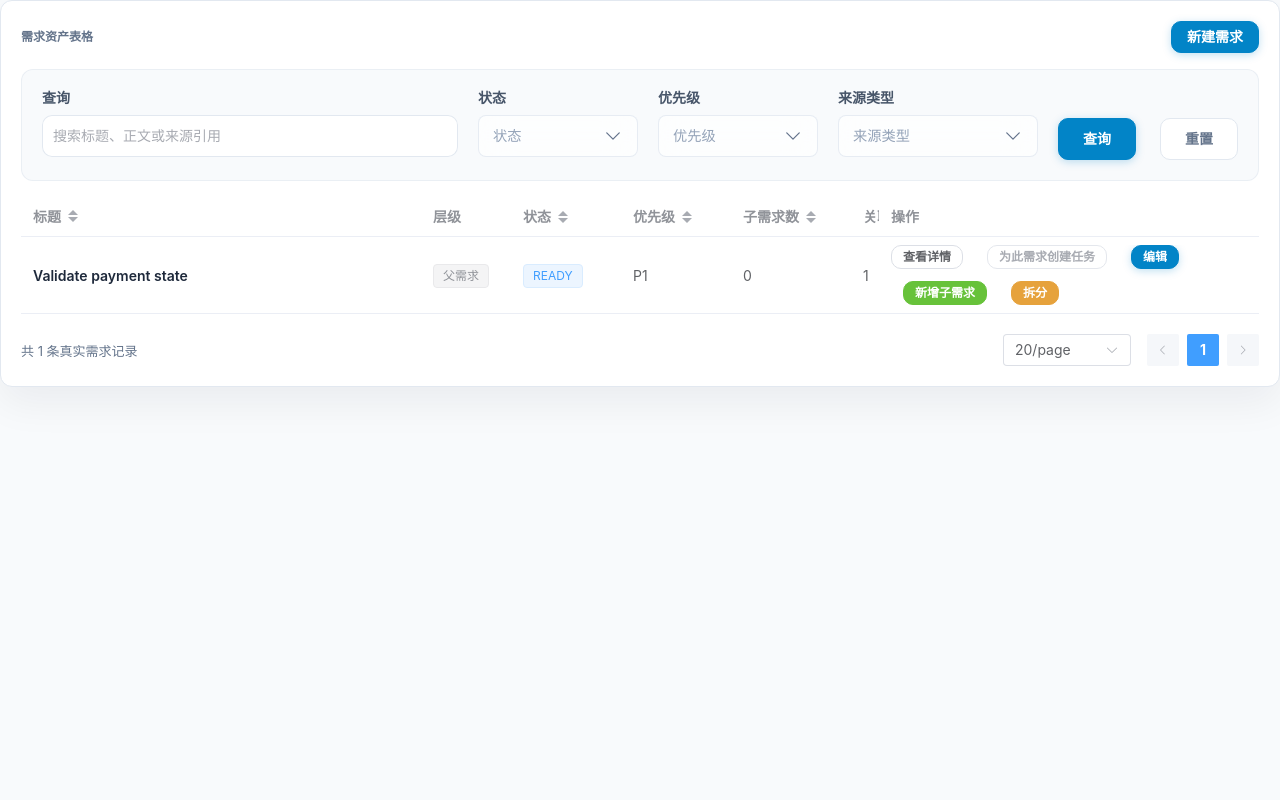
Scenario: RequirementsWorkbench split preview › rebinds an active split preview job from the server instead of creating a duplicate
Click the button "拆分" at (1035, 293), box [1011,281,1059,305]
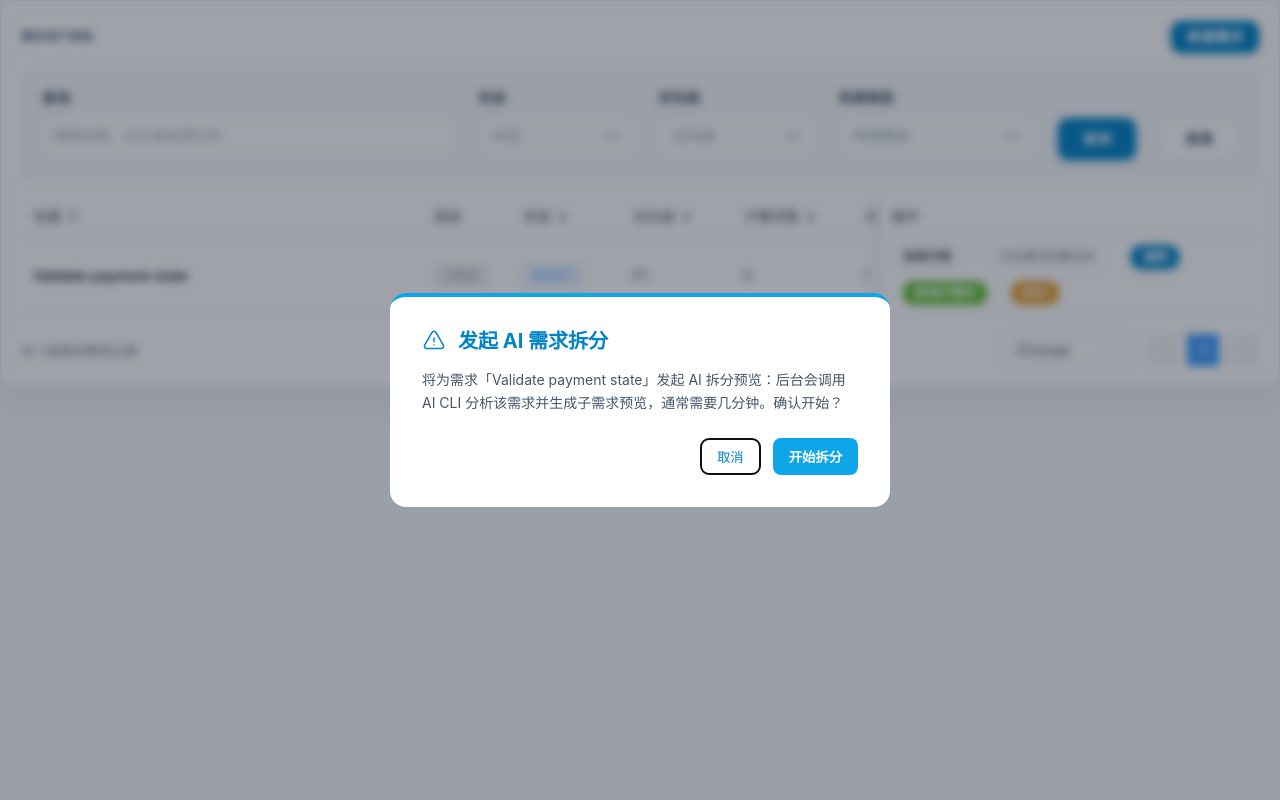
Expected: the button "开始拆分" is shown
Click the button "开始拆分" at (815, 456), box [773,438,858,475]
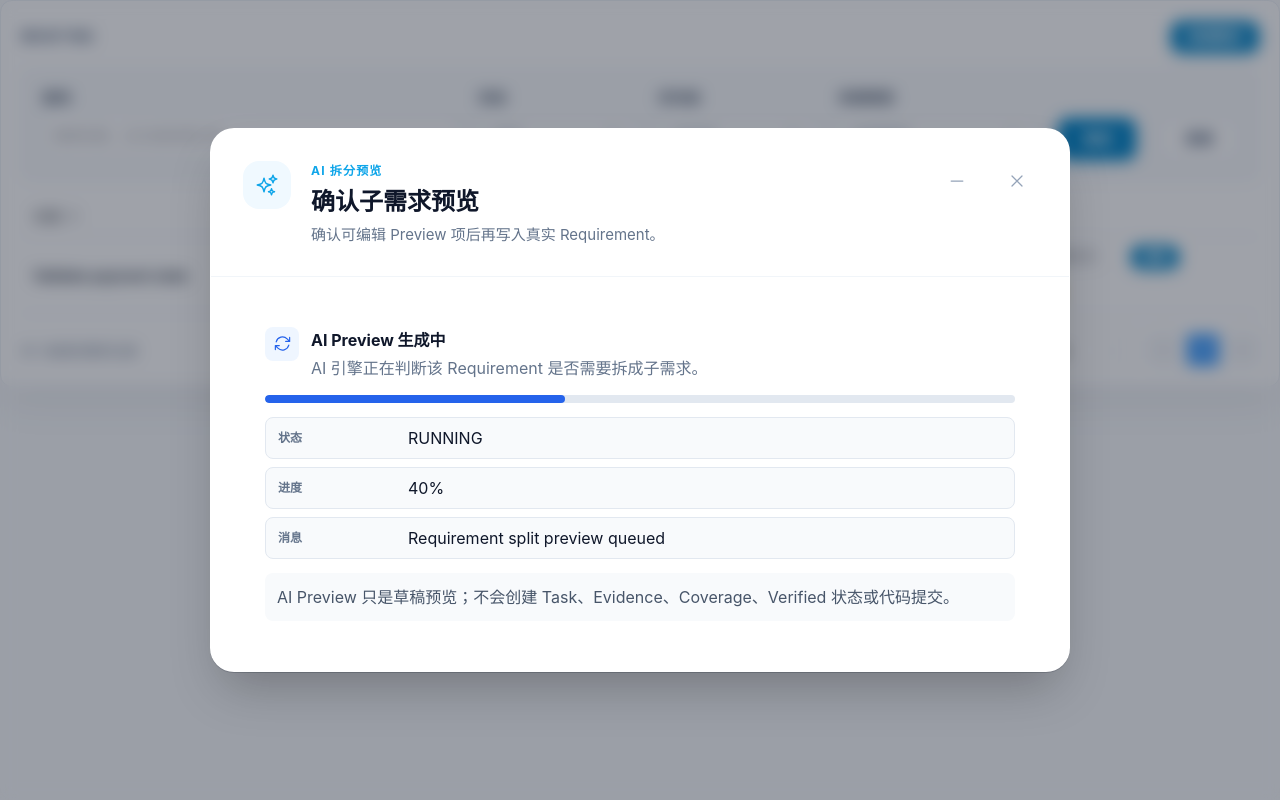
Expected: the text "RUNNING" is shown, [408,428,483,448]
